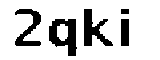2: (11, 6, 44, 51)
i: (119, 4, 133, 50)
k: (82, 5, 115, 50)
q: (47, 15, 79, 59)
